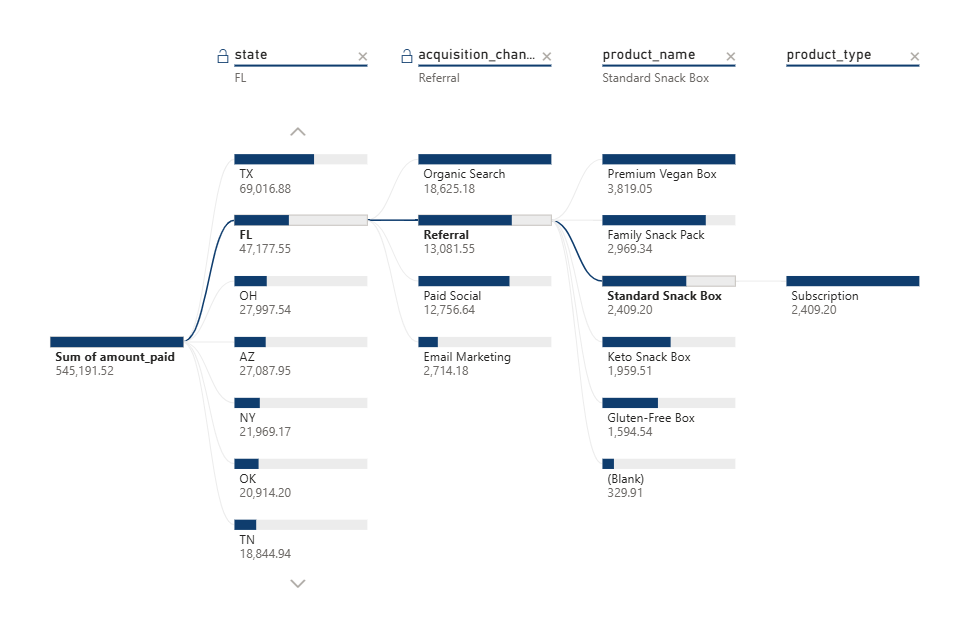

This screenshot's page, from the dashboard's own definition file:
{"tool":"powerbi","page":{"name":"Page 2","canvas":[1280,720],"ordinal":1},"visuals":[{"type":"decompositionTreeVisual","fields":{"Analyze":["Sum(public transactions.amount_paid)"],"ExplainBy":["public customers.state","public customers.acquisition_channel","public products.product_name","public products.product_type"]},"box":[83.2,63.6,1114,590.6],"z":1}]}

Visuals, with their boxes on the page's 1280x720 design canvas (x1, y1, x2, y2). These are canvas units, not pixel positions in the 967x628 screenshot, which may show the page scaled, cropped or inside an application window:
decompositionTreeVisual - Sum(public transactions.amount_paid) x public customers.state: [83,64,1197,654]
